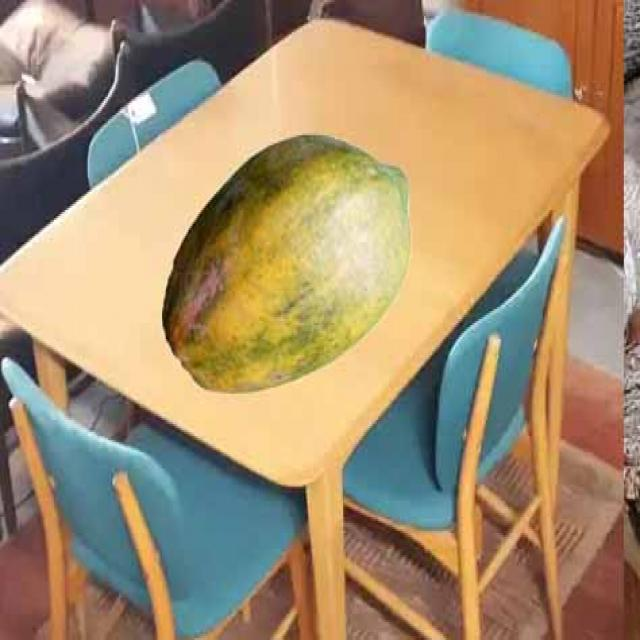Pepaya rippen: (157, 121, 417, 390)
